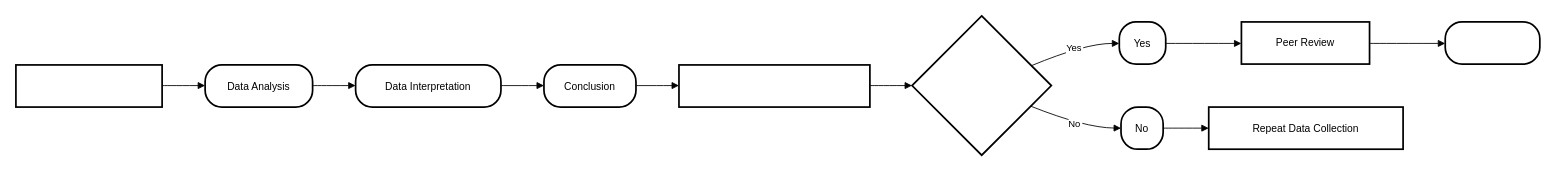
Image size: 1555x170. Some labels were removed from this diagram. The shapes that lost their labels are listed below. From the top down, each one's centre as x and y in pixels, then its label:
At point (1492, 42): "Publication".
At point (89, 86): "Data Collection".
At point (774, 86): "Knowledge Integration".
At point (981, 85): "Is data reliable?".
